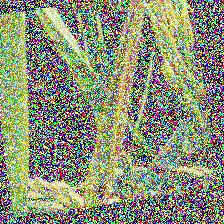Leaf_Blast: (79, 0, 170, 171)
